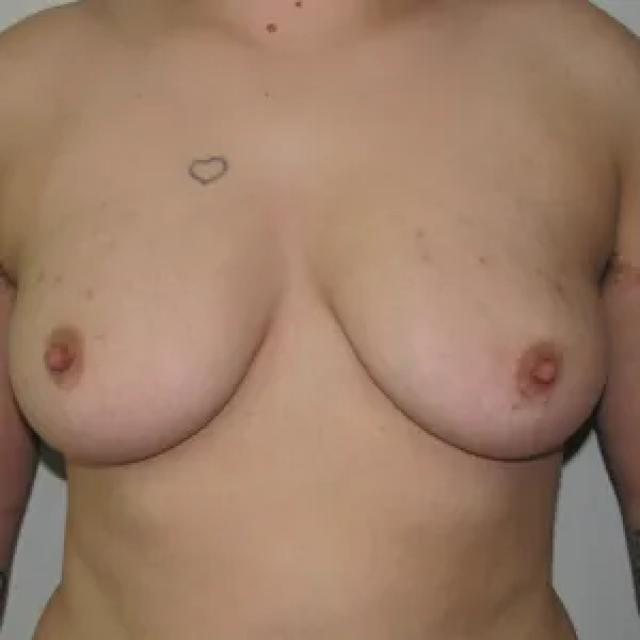Seno ileso: (309, 196, 619, 485), (4, 200, 292, 490)
